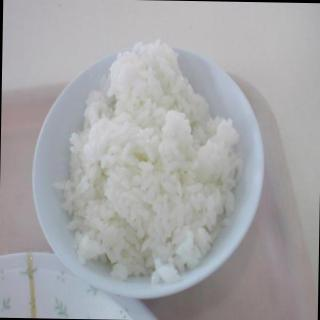Nasi: (48, 35, 247, 286)
